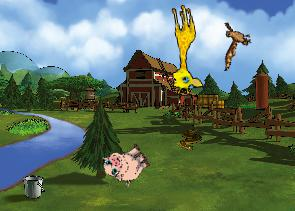eagle: (210, 16, 258, 71)
giraffe: (160, 3, 204, 96)
pig: (98, 136, 154, 191)
